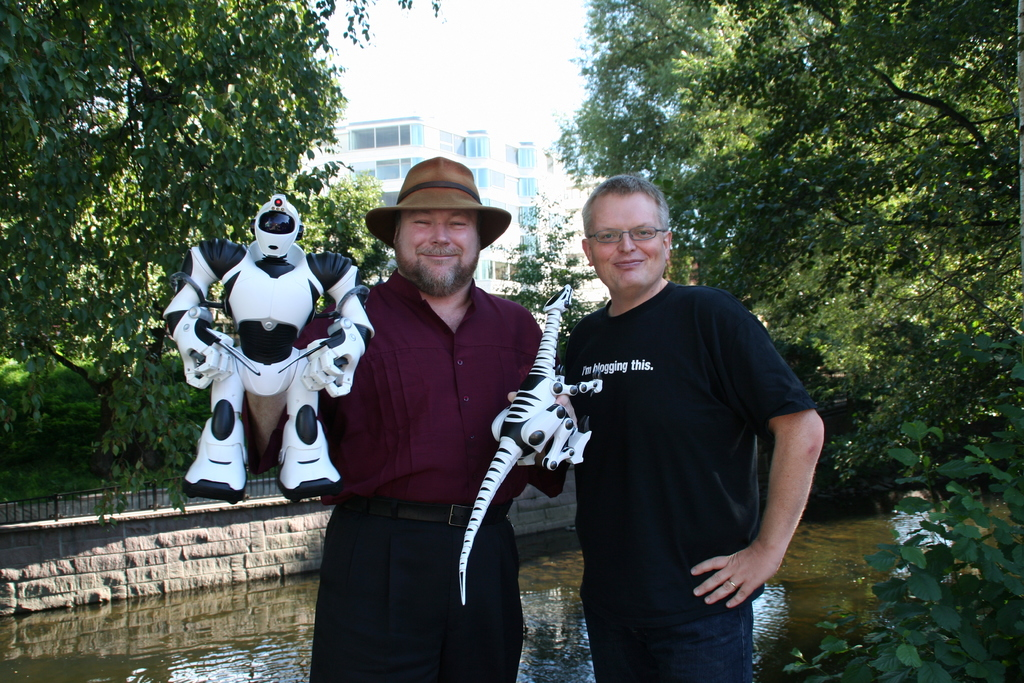face: (381, 197, 503, 303), (578, 182, 689, 297)
